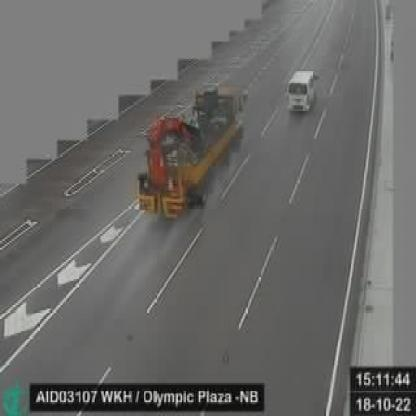Car: (287, 67, 318, 116)
Truck: (135, 77, 249, 221)
